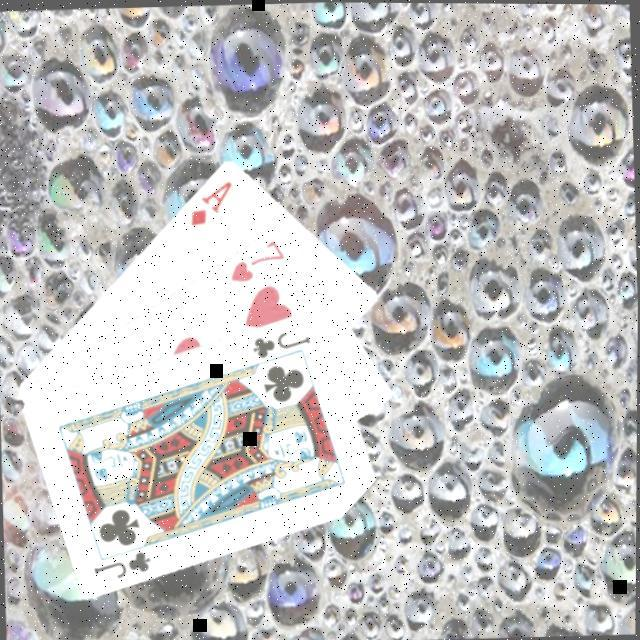7H: (227, 236, 291, 286)
AD: (188, 177, 240, 230)
JC: (92, 547, 157, 583), (252, 328, 316, 362)
